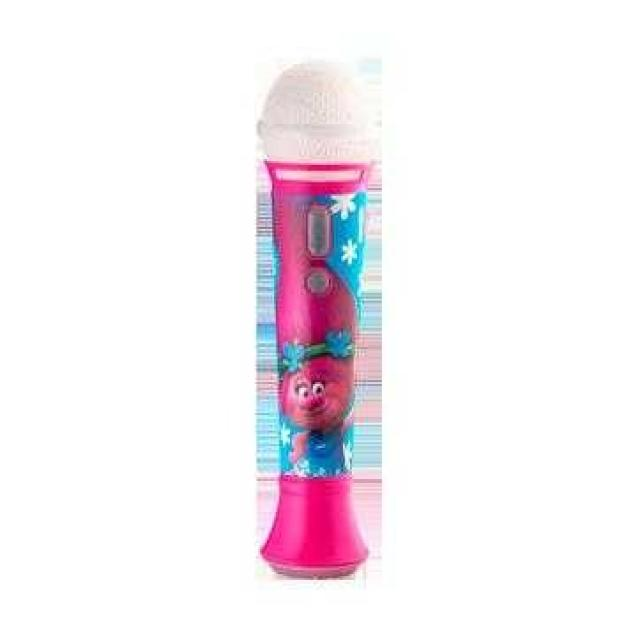microphone: (255, 59, 378, 578)
